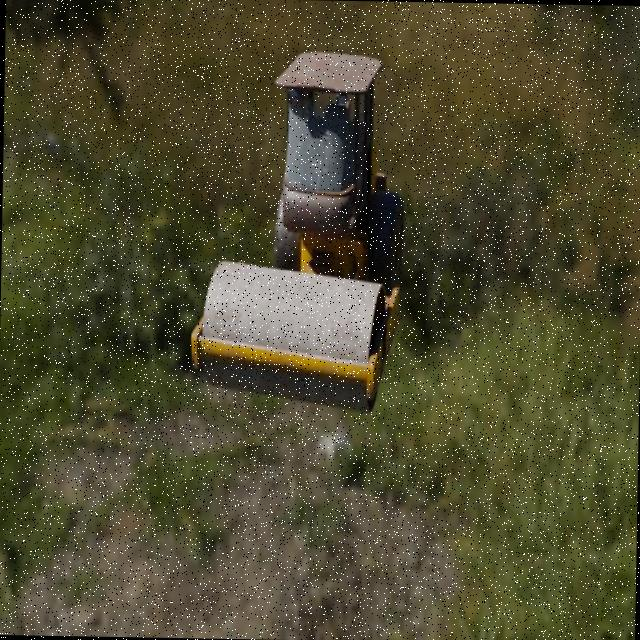Roller: (188, 48, 407, 414)
